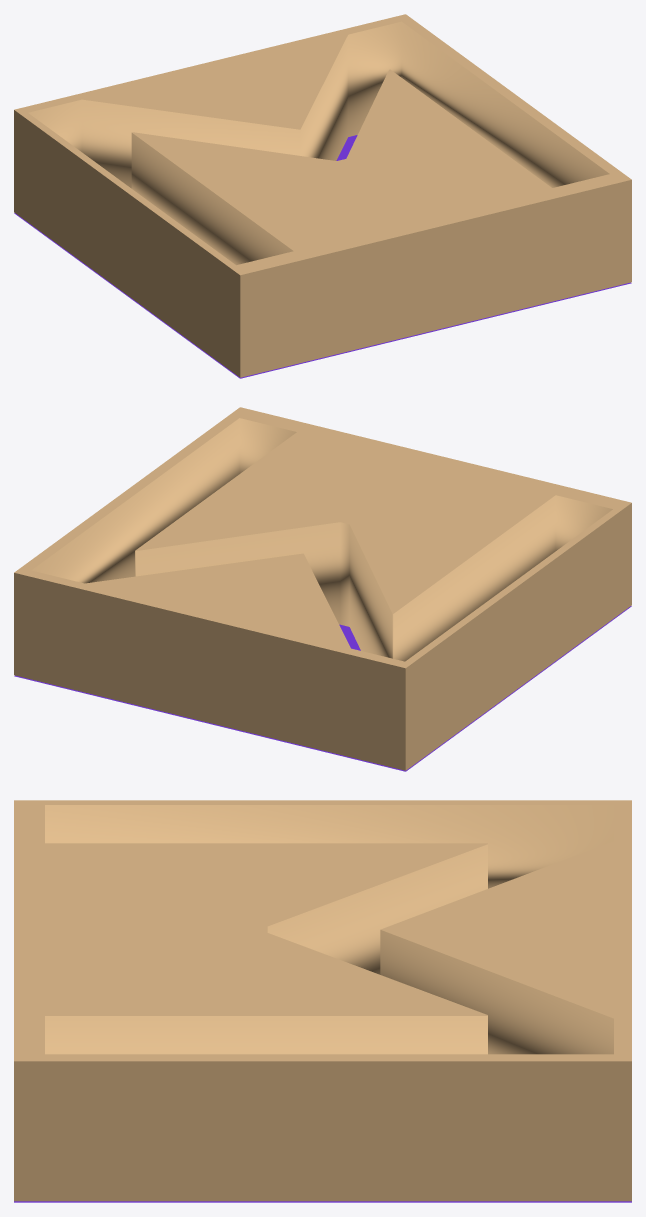
Rendered from M_mold.gltf.
The picture shows the model from 3 angles, top to bottom: view 1: azimuth 30°, elevation 25°; view 2: azimuth 150°, elevation 25°; view 3: azimuth 270°, elevation 25°; orthographic projection. The views are drawn at different scales.
Parts seen in each view (by area): view 1: Cube, Base; view 2: Cube, Base; view 3: Cube, Base.
Part boxes in pixels (left/top/right/bottom): Cube: left=14, top=14, right=631, bottom=377; Base: left=14, top=135, right=631, bottom=378; Cube: left=14, top=407, right=631, bottom=770; Base: left=14, top=606, right=631, bottom=771; Cube: left=14, top=800, right=631, bottom=1201; Base: left=14, top=1201, right=631, bottom=1202.
Size of the model in its own units: 0.2 by 0.0505 by 0.2.
